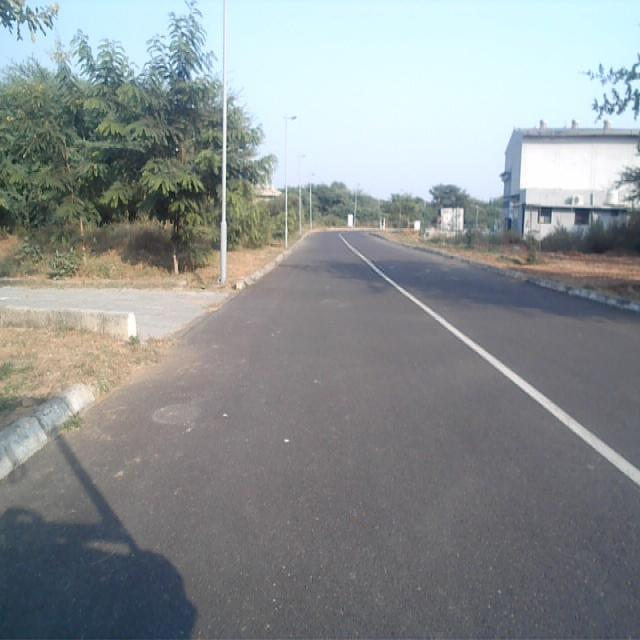lane: (0, 235, 640, 640)
